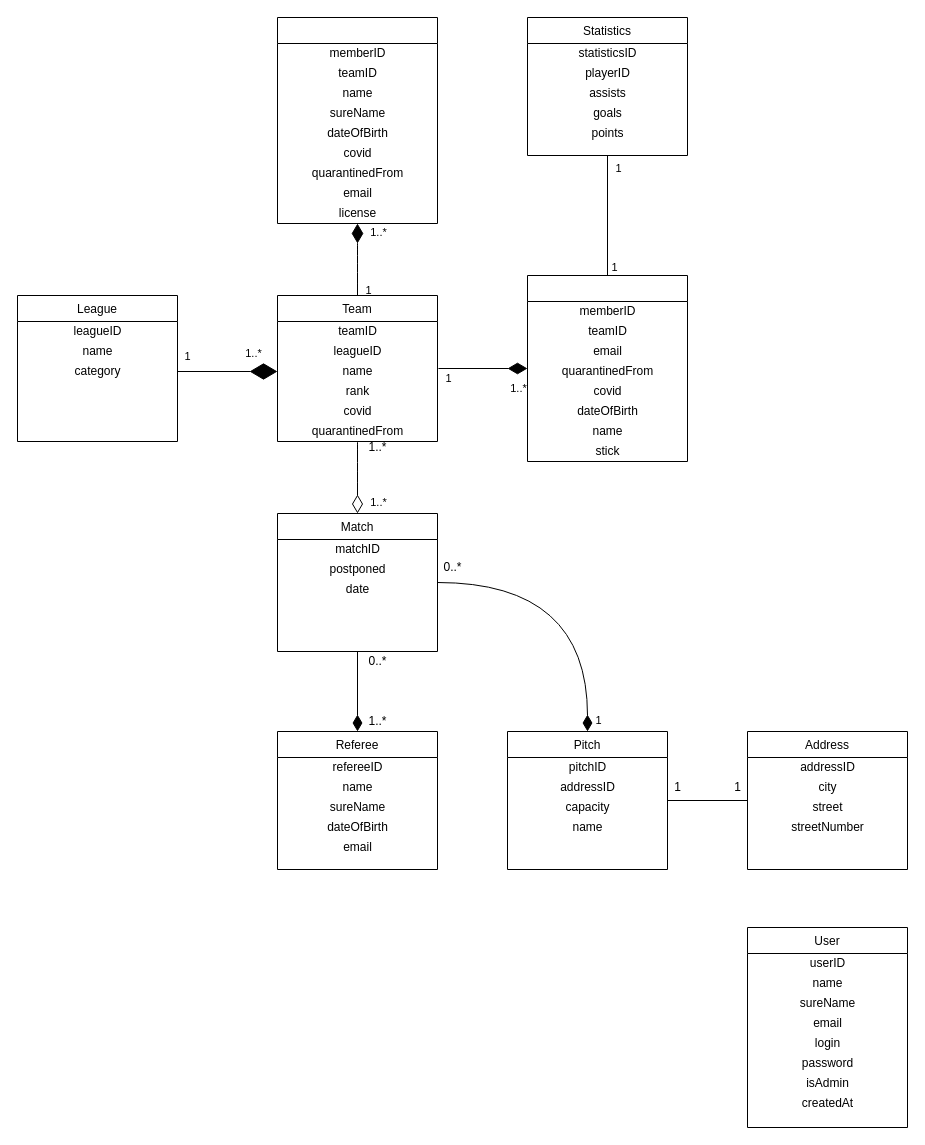
Some shapes in this 925 by 1145 pixel diagram are drawn without their labels. The box of each missing label's shape, as (x1, y1, x2, y2) in pixels:
Coach: (276, 16, 438, 224)
Player: (526, 274, 688, 462)
